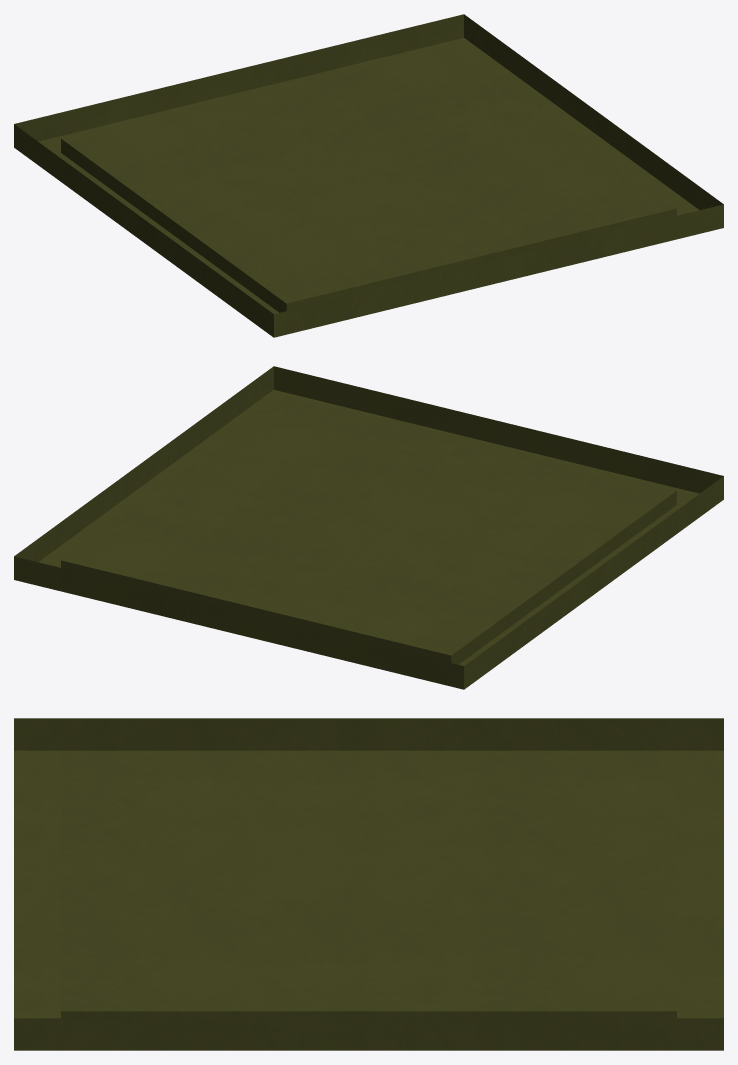
The model's file is LGSeochoB1LightCeilingLg.fbx.
3 views of the same model, one above another, from view 1: azimuth 30°, elevation 25°; view 2: azimuth 150°, elevation 25°; view 3: azimuth 270°, elevation 25° (orthographic). The views are drawn at different scales.
Visible parts, largest first — view 1: LGSeochoB1LightMetal; view 2: LGSeochoB1LightMetal; view 3: LGSeochoB1LightMetal.
Boxes of the visible parts, box(x1,y1,x2,y2) form: LGSeochoB1LightMetal: box(14, 14, 723, 337); LGSeochoB1LightMetal: box(14, 366, 723, 689); LGSeochoB1LightMetal: box(14, 718, 723, 1050).
Size of the model in its own units: 19.99 by 1.03 by 19.99.
Materials: 2 (1 with a texture image).
